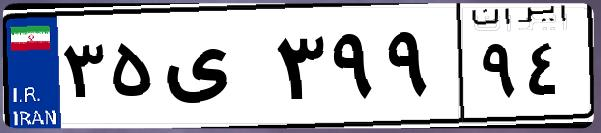3: (270, 28, 330, 110), (57, 26, 110, 100)
4: (525, 38, 570, 115)
5: (110, 28, 158, 98)
9: (385, 28, 445, 110), (330, 28, 385, 110), (475, 38, 525, 113)
ی: (158, 20, 270, 120)
